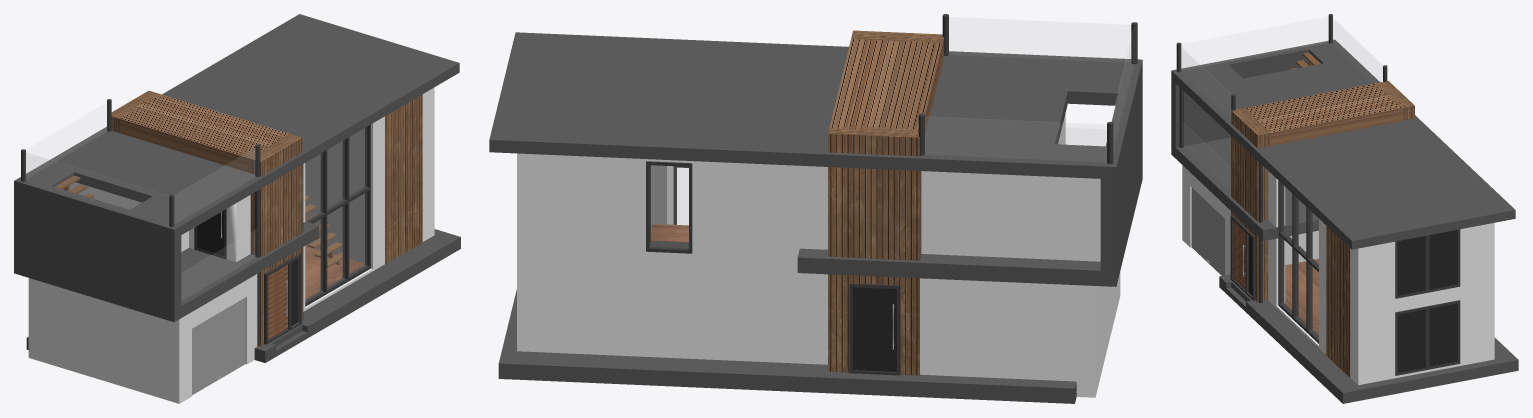
Rendered from modern_home_8Tp10pE.glb.
3 views of the same model, side by side, from view 1: azimuth 30°, elevation 25°; view 2: azimuth 150°, elevation 25°; view 3: azimuth 270°, elevation 25° (orthographic). The views are drawn at different scales.
Parts seen in each view (by area): view 1: Cladding, Box012, Box009, Box091, Box011, Parter001, Box013, Box036, Parter, Box093, Box018, Box007 (+7 smaller); view 2: Cladding, Parter001, Parter, Box009, Box012, Box011, Box101, Box013, Box014; view 3: Cladding, Box009, Parter, Parter001, Box011, Box091, Box012, Box036, Box103, Box105, Box109, Box107 (+6 smaller).
Part boxes in pixels (x1,y1,x2,y2): Cladding: [14, 14, 459, 322]; Box012: [28, 274, 257, 403]; Box009: [111, 90, 302, 345]; Box091: [385, 94, 422, 264]; Box011: [26, 229, 460, 362]; Parter001: [69, 87, 434, 261]; Box013: [305, 128, 364, 262]; Box036: [192, 297, 245, 395]; Parter: [303, 158, 434, 311]; Box093: [305, 245, 364, 299]; Box018: [264, 253, 301, 344]; Box007: [342, 137, 349, 279]; Cladding: [489, 32, 1142, 286]; Parter001: [517, 113, 1100, 266]; Parter: [517, 173, 827, 364]; Box009: [828, 30, 944, 375]; Box012: [920, 272, 1120, 397]; Box011: [498, 289, 1076, 403]; Box101: [853, 287, 896, 371]; Box013: [651, 165, 666, 228]; Box014: [651, 225, 688, 242]; Cladding: [1171, 39, 1515, 249]; Box009: [1231, 81, 1414, 302]; Parter: [1268, 239, 1494, 385]; Parter001: [1268, 171, 1494, 317]; Box011: [1219, 274, 1518, 403]; Box091: [1326, 226, 1350, 377]; Box012: [1182, 165, 1318, 274]; Box036: [1191, 187, 1224, 275]; Box103: [1429, 303, 1457, 366]; Box105: [1398, 309, 1425, 372]; Box109: [1429, 230, 1457, 289]; Box107: [1398, 236, 1425, 295].
Size of what is drawn, in the model's own units: 15949 by 7097 by 11620.
Materials: 9 (3 with a texture image).
